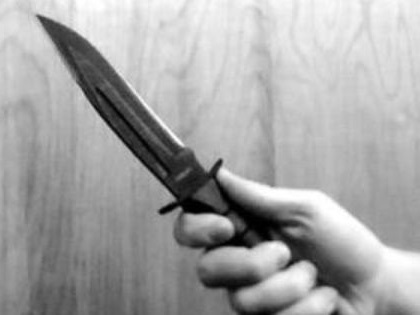knife: (31, 10, 350, 315)
